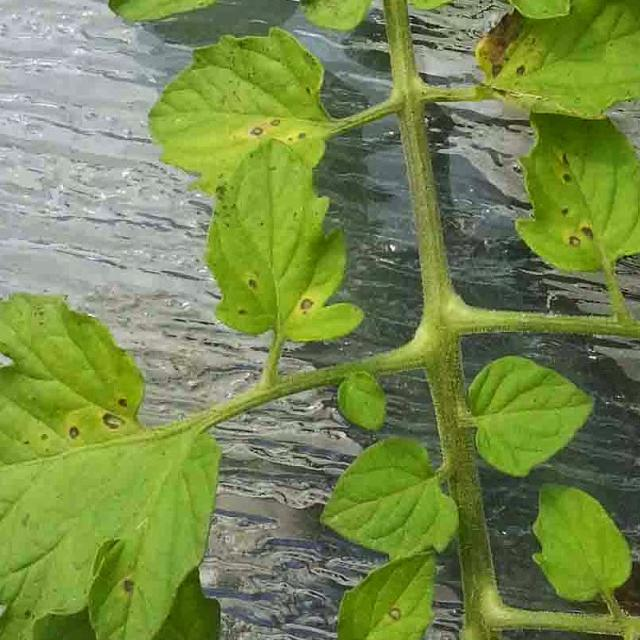Tomato Septoria leaf spot: (0, 303, 211, 640), (150, 130, 373, 374), (145, 28, 353, 212), (497, 92, 640, 307), (453, 0, 640, 113)
